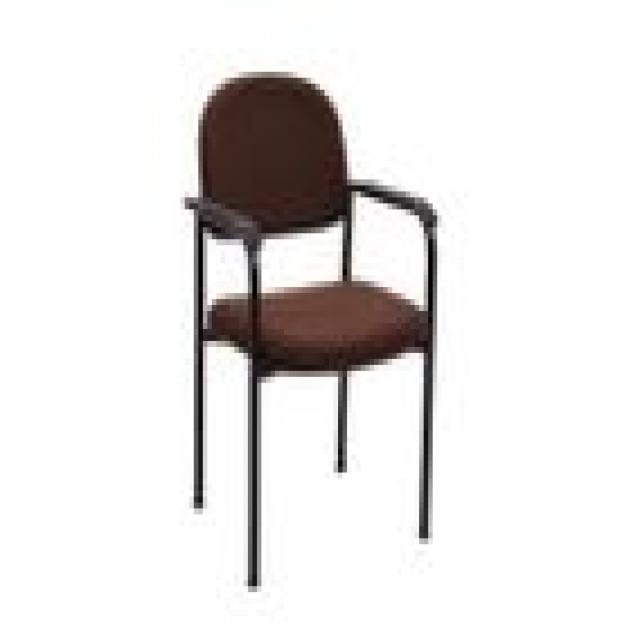others: (162, 54, 469, 598)
